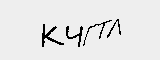Г: (83, 20, 99, 46)
К: (39, 22, 65, 50)
Л: (105, 16, 123, 37)
Т: (96, 15, 113, 45)
Ч: (64, 22, 83, 46)
